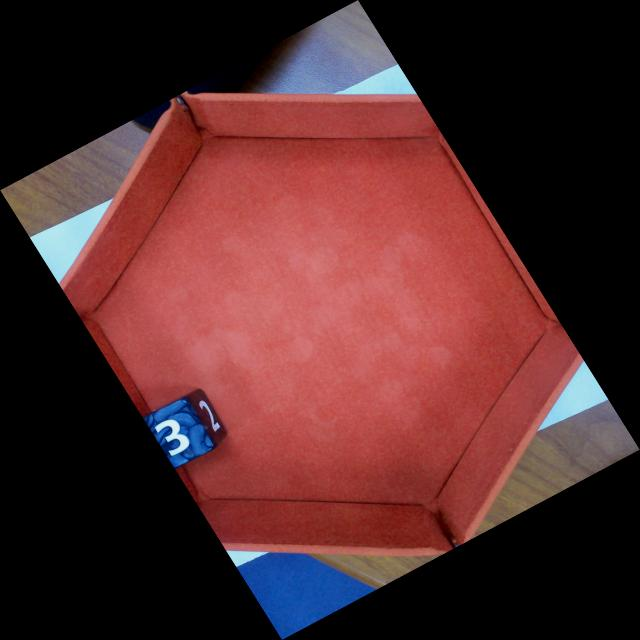dice: (138, 396, 217, 471)
